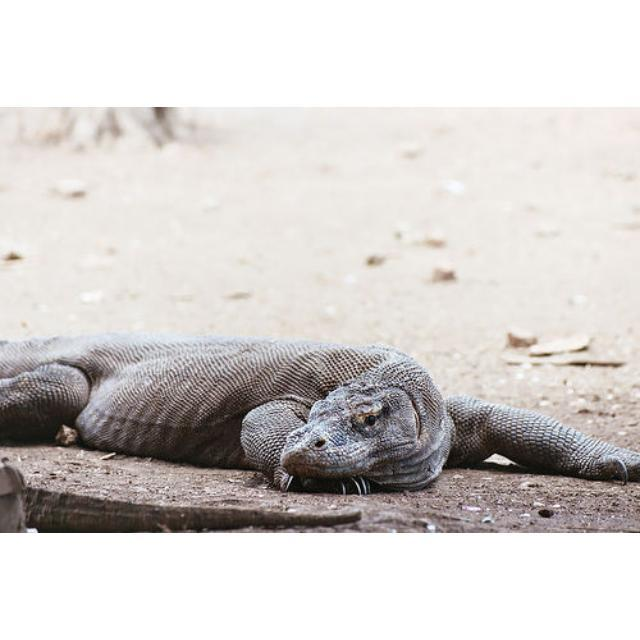KomodoDragon: (3, 336, 637, 530)
